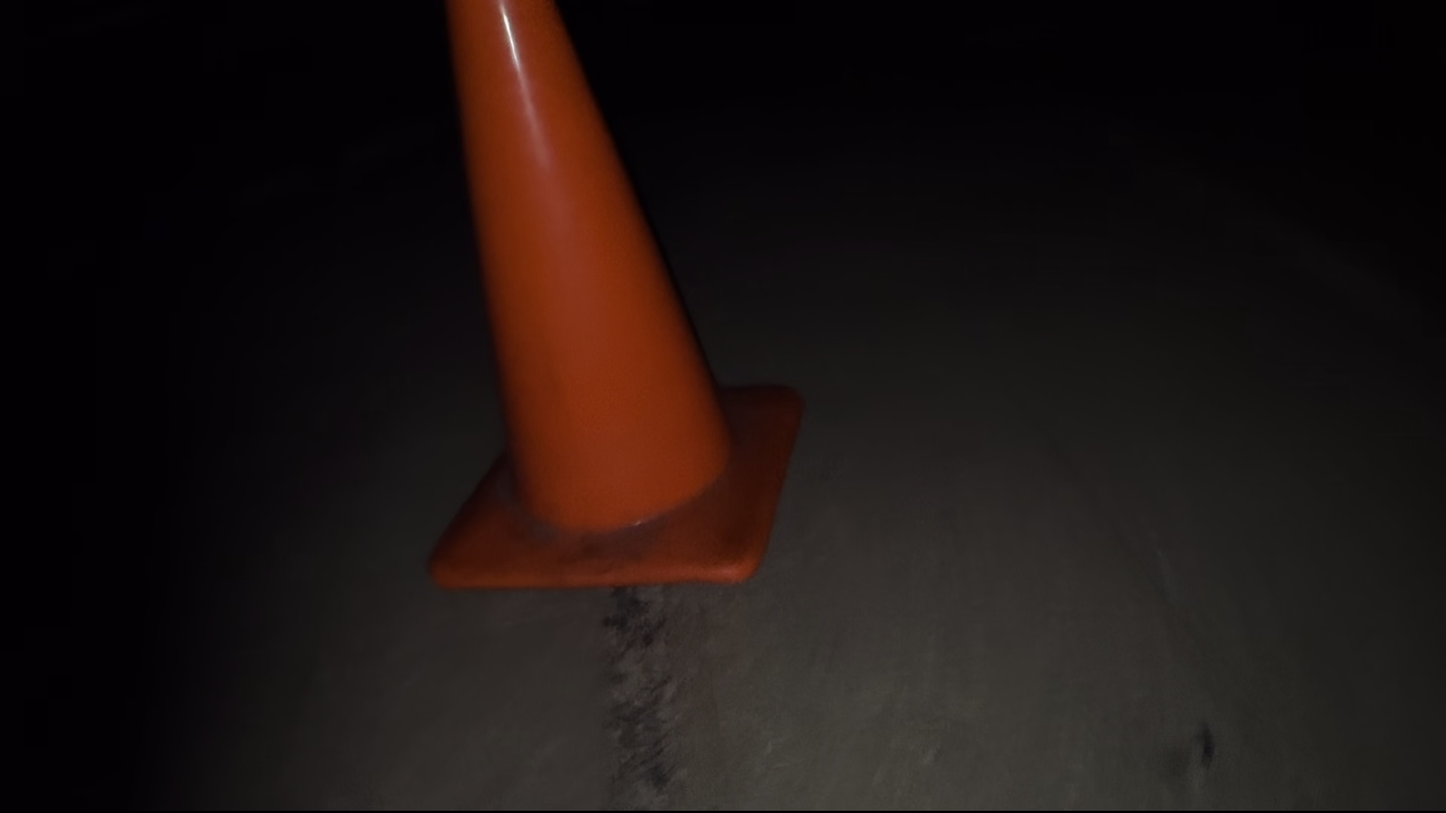traffic_cone: (425, 0, 804, 591)
